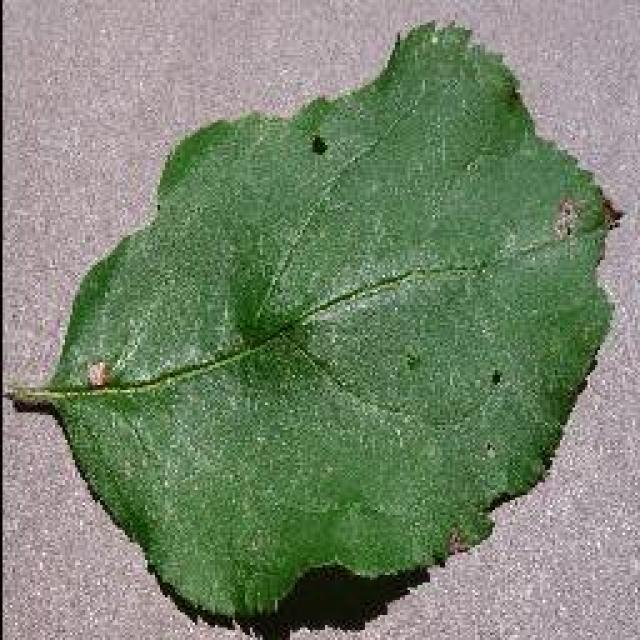apple scab disease: (10, 18, 622, 638)
